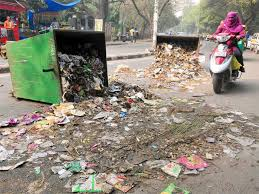garbage: (49, 100, 216, 194), (2, 117, 144, 191), (111, 80, 173, 135), (58, 51, 108, 99), (155, 45, 203, 79)
